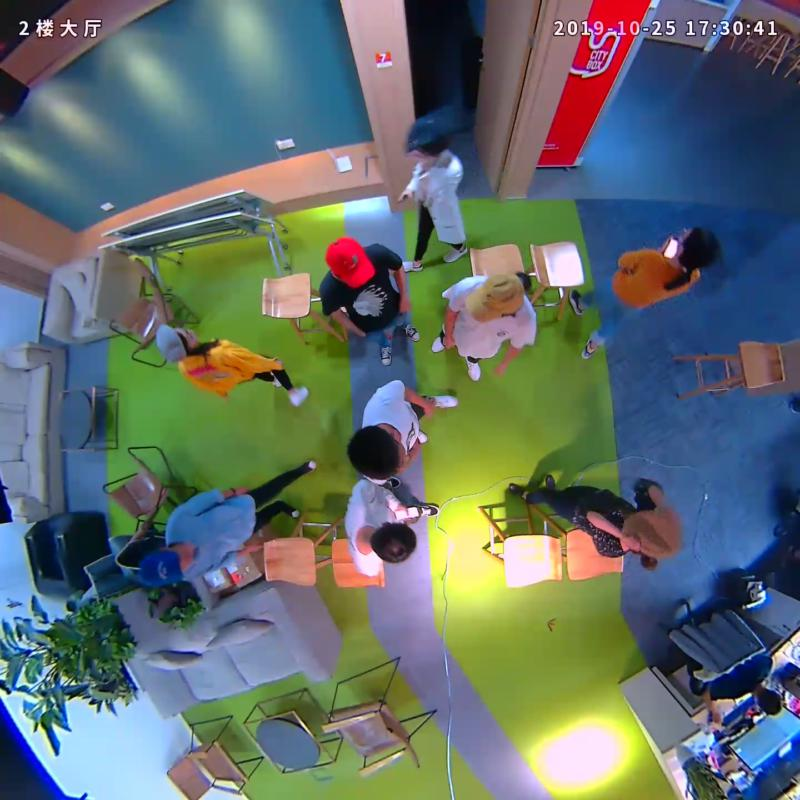head: (621, 505, 681, 565), (347, 425, 411, 480), (464, 271, 526, 323), (323, 235, 375, 288), (138, 542, 194, 586), (368, 521, 417, 564), (677, 224, 720, 271), (404, 120, 443, 168), (155, 323, 199, 363)
